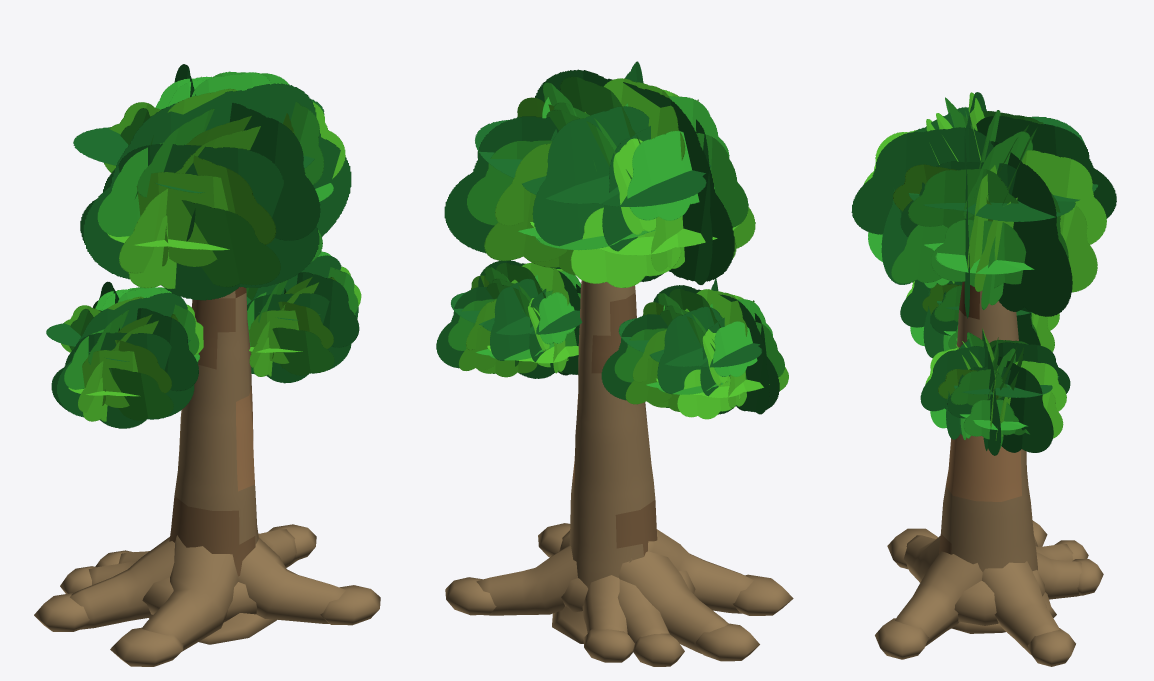
File: TREE_EUCALYPTUS_001_v016_LOD_GAMEPLAY.glb
3 renders of one model, left to right at view 1: azimuth 30°, elevation 25°; view 2: azimuth 150°, elevation 25°; view 3: azimuth 270°, elevation 25°, orthographic. The views are drawn at different scales.
Visible parts, largest first — view 1: TREE_EUCALYPTUS_001_GAMEPLAY_AUTHORED_FOLIAGE_ISLANDS, TREE_EUCALYPTUS_001_GAMEPLAY_MAIN_TRUNK, TREE_EUCALYPTUS_001_GAMEPLAY_ROOT_FRONT_LEFT, TREE_EUCALYPTUS_001_GAMEPLAY_ROOT_FRONT_RIGHT, TREE_EUCALYPTUS_001_GAMEPLAY_ROOT_LONG_LEFT, TREE_EUCALYPTUS_001_GAMEPLAY_ROOT_TOE_FRONT_LEFT, TREE_EUCALYPTUS_001_GAMEPLAY_ROOT_TOE_FRONT_RIGHT, TREE_EUCALYPTUS_001_GAMEPLAY_ROOT_TOE_LONG_LEFT, TREE_EUCALYPTUS_001_GAMEPLAY_BROAD_PLANTED_ROOT_MOUND, TREE_EUCALYPTUS_001_GAMEPLAY_SCULPTED_ROOT_COLLAR, TREE_EUCALYPTUS_001_GAMEPLAY_ROOT_RIGHT_SIDE, TREE_EUCALYPTUS_001_GAMEPLAY_ROOT_TOE_RIGHT_SIDE (+1 smaller); view 2: TREE_EUCALYPTUS_001_GAMEPLAY_AUTHORED_FOLIAGE_ISLANDS, TREE_EUCALYPTUS_001_GAMEPLAY_MAIN_TRUNK, TREE_EUCALYPTUS_001_GAMEPLAY_ROOT_LONG_LEFT, TREE_EUCALYPTUS_001_GAMEPLAY_ROOT_RIGHT_SIDE, TREE_EUCALYPTUS_001_GAMEPLAY_ROOT_FRONT_LEFT, TREE_EUCALYPTUS_001_GAMEPLAY_ROOT_REAR_SHORT, TREE_EUCALYPTUS_001_GAMEPLAY_ROOT_LEFT_REAR, TREE_EUCALYPTUS_001_GAMEPLAY_ROOT_TOE_LONG_LEFT, TREE_EUCALYPTUS_001_GAMEPLAY_ROOT_TOE_FRONT_LEFT, TREE_EUCALYPTUS_001_GAMEPLAY_ROOT_TOE_REAR_SHORT, TREE_EUCALYPTUS_001_GAMEPLAY_ROOT_TOE_RIGHT_SIDE, TREE_EUCALYPTUS_001_GAMEPLAY_ROOT_TOE_LEFT_REAR (+3 smaller); view 3: TREE_EUCALYPTUS_001_GAMEPLAY_AUTHORED_FOLIAGE_ISLANDS, TREE_EUCALYPTUS_001_GAMEPLAY_MAIN_TRUNK, TREE_EUCALYPTUS_001_GAMEPLAY_ROOT_FRONT_RIGHT, TREE_EUCALYPTUS_001_GAMEPLAY_ROOT_RIGHT_SIDE, TREE_EUCALYPTUS_001_GAMEPLAY_BROAD_PLANTED_ROOT_MOUND, TREE_EUCALYPTUS_001_GAMEPLAY_ROOT_REAR_SHORT, TREE_EUCALYPTUS_001_GAMEPLAY_ROOT_TOE_FRONT_RIGHT, TREE_EUCALYPTUS_001_GAMEPLAY_ROOT_TOE_RIGHT_SIDE, TREE_EUCALYPTUS_001_GAMEPLAY_ROOT_FRONT_LEFT, TREE_EUCALYPTUS_001_GAMEPLAY_ROOT_TOE_FRONT_LEFT, TREE_EUCALYPTUS_001_GAMEPLAY_ROOT_TOE_REAR_SHORT, TREE_EUCALYPTUS_001_GAMEPLAY_SCULPTED_ROOT_COLLAR (+1 smaller).
Part boxes in pixels (bbox=[...]): TREE_EUCALYPTUS_001_GAMEPLAY_AUTHORED_FOLIAGE_ISLANDS: bbox=[46, 64, 361, 428]; TREE_EUCALYPTUS_001_GAMEPLAY_MAIN_TRUNK: bbox=[169, 287, 258, 576]; TREE_EUCALYPTUS_001_GAMEPLAY_ROOT_FRONT_LEFT: bbox=[142, 535, 238, 651]; TREE_EUCALYPTUS_001_GAMEPLAY_ROOT_FRONT_RIGHT: bbox=[238, 537, 346, 623]; TREE_EUCALYPTUS_001_GAMEPLAY_ROOT_LONG_LEFT: bbox=[70, 537, 174, 629]; TREE_EUCALYPTUS_001_GAMEPLAY_ROOT_TOE_FRONT_LEFT: bbox=[110, 627, 183, 666]; TREE_EUCALYPTUS_001_GAMEPLAY_ROOT_TOE_FRONT_RIGHT: bbox=[320, 585, 380, 625]; TREE_EUCALYPTUS_001_GAMEPLAY_ROOT_TOE_LONG_LEFT: bbox=[34, 593, 89, 631]; TREE_EUCALYPTUS_001_GAMEPLAY_BROAD_PLANTED_ROOT_MOUND: bbox=[142, 577, 256, 622]; TREE_EUCALYPTUS_001_GAMEPLAY_SCULPTED_ROOT_COLLAR: bbox=[149, 613, 276, 644]; TREE_EUCALYPTUS_001_GAMEPLAY_ROOT_RIGHT_SIDE: bbox=[258, 529, 297, 567]; TREE_EUCALYPTUS_001_GAMEPLAY_ROOT_TOE_RIGHT_SIDE: bbox=[268, 524, 316, 560]; TREE_EUCALYPTUS_001_GAMEPLAY_AUTHORED_FOLIAGE_ISLANDS: bbox=[436, 61, 788, 419]; TREE_EUCALYPTUS_001_GAMEPLAY_MAIN_TRUNK: bbox=[569, 280, 657, 588]; TREE_EUCALYPTUS_001_GAMEPLAY_ROOT_LONG_LEFT: bbox=[618, 551, 728, 653]; TREE_EUCALYPTUS_001_GAMEPLAY_ROOT_RIGHT_SIDE: bbox=[476, 545, 577, 615]; TREE_EUCALYPTUS_001_GAMEPLAY_ROOT_FRONT_LEFT: bbox=[629, 529, 753, 613]; TREE_EUCALYPTUS_001_GAMEPLAY_ROOT_REAR_SHORT: bbox=[582, 575, 627, 633]; TREE_EUCALYPTUS_001_GAMEPLAY_ROOT_LEFT_REAR: bbox=[617, 579, 669, 642]; TREE_EUCALYPTUS_001_GAMEPLAY_ROOT_TOE_LONG_LEFT: bbox=[694, 623, 759, 661]; TREE_EUCALYPTUS_001_GAMEPLAY_ROOT_TOE_FRONT_LEFT: bbox=[733, 574, 793, 615]; TREE_EUCALYPTUS_001_GAMEPLAY_ROOT_TOE_REAR_SHORT: bbox=[583, 629, 634, 662]; TREE_EUCALYPTUS_001_GAMEPLAY_ROOT_TOE_RIGHT_SIDE: bbox=[445, 577, 496, 615]; TREE_EUCALYPTUS_001_GAMEPLAY_ROOT_TOE_LEFT_REAR: bbox=[633, 633, 684, 666]; TREE_EUCALYPTUS_001_GAMEPLAY_AUTHORED_FOLIAGE_ISLANDS: bbox=[851, 92, 1116, 455]; TREE_EUCALYPTUS_001_GAMEPLAY_MAIN_TRUNK: bbox=[939, 281, 1037, 633]; TREE_EUCALYPTUS_001_GAMEPLAY_ROOT_FRONT_RIGHT: bbox=[895, 551, 982, 646]; TREE_EUCALYPTUS_001_GAMEPLAY_ROOT_RIGHT_SIDE: bbox=[981, 561, 1059, 655]; TREE_EUCALYPTUS_001_GAMEPLAY_BROAD_PLANTED_ROOT_MOUND: bbox=[954, 570, 1044, 625]; TREE_EUCALYPTUS_001_GAMEPLAY_ROOT_REAR_SHORT: bbox=[1036, 552, 1082, 599]; TREE_EUCALYPTUS_001_GAMEPLAY_ROOT_TOE_FRONT_RIGHT: bbox=[875, 618, 928, 659]; TREE_EUCALYPTUS_001_GAMEPLAY_ROOT_TOE_RIGHT_SIDE: bbox=[1028, 628, 1075, 666]; TREE_EUCALYPTUS_001_GAMEPLAY_ROOT_FRONT_LEFT: bbox=[903, 535, 940, 582]; TREE_EUCALYPTUS_001_GAMEPLAY_ROOT_TOE_FRONT_LEFT: bbox=[887, 528, 937, 569]; TREE_EUCALYPTUS_001_GAMEPLAY_ROOT_TOE_REAR_SHORT: bbox=[1072, 559, 1103, 595]; TREE_EUCALYPTUS_001_GAMEPLAY_SCULPTED_ROOT_COLLAR: bbox=[952, 592, 1056, 631].
Bounding box in the file's own units: 4.13 × 6.57 × 3.3.
Materials: 5 (1 with a texture image).
